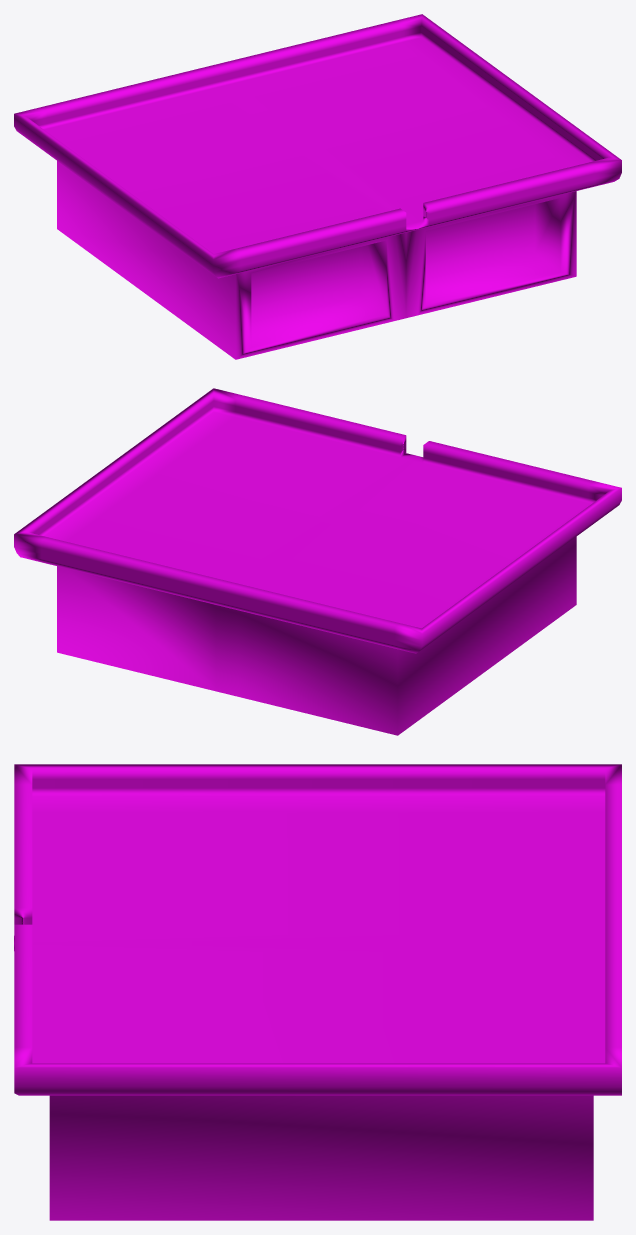
The model's file is mdl_Corredor_base_oficina.fbx.
The picture shows the model from 3 angles, top to bottom: view 1: azimuth 30°, elevation 25°; view 2: azimuth 150°, elevation 25°; view 3: azimuth 270°, elevation 25°; orthographic projection. The views are drawn at different scales.
Visible parts, largest first — view 1: mdl_Corredor_base_oficina; view 2: mdl_Corredor_base_oficina; view 3: mdl_Corredor_base_oficina.
Part boxes in pixels (x1,y1,x2,y2): mdl_Corredor_base_oficina: (14,14,621,359); mdl_Corredor_base_oficina: (14,388,621,735); mdl_Corredor_base_oficina: (14,764,621,1220).
Bounding box in the file's own units: 41.18 × 11.25 × 34.88.
